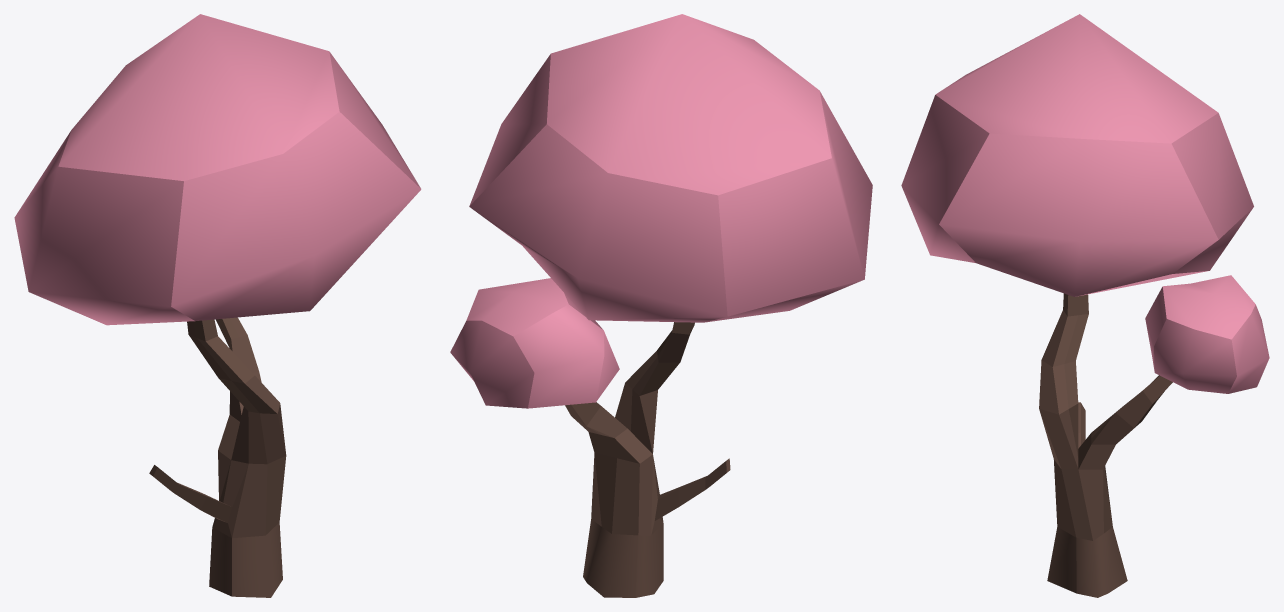
Rendered from sakura_1.gltf.
3 renders of one model, left to right at view 1: azimuth 30°, elevation 25°; view 2: azimuth 150°, elevation 25°; view 3: azimuth 270°, elevation 25°, orthographic. The views are drawn at different scales.
Parts seen in each view (by area): view 1: pCube2, pCube1; view 2: pCube2, pCube1, pCube3; view 3: pCube2, pCube1, pCube3.
Boxes of the visible parts, bbox=[...] form: pCube2: bbox=[14, 14, 421, 325]; pCube1: bbox=[149, 317, 286, 597]; pCube2: bbox=[469, 14, 872, 322]; pCube1: bbox=[565, 322, 730, 597]; pCube3: bbox=[450, 278, 619, 408]; pCube2: bbox=[901, 14, 1253, 296]; pCube1: bbox=[1039, 293, 1172, 597]; pCube3: bbox=[1145, 275, 1269, 393].
Bounding box in the file's own units: 5.8 × 8.98 × 5.52.
